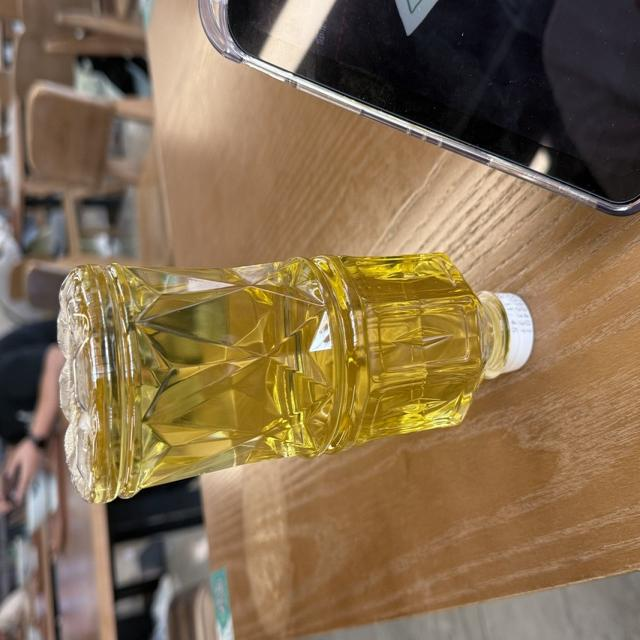high: (59, 254, 532, 502)
